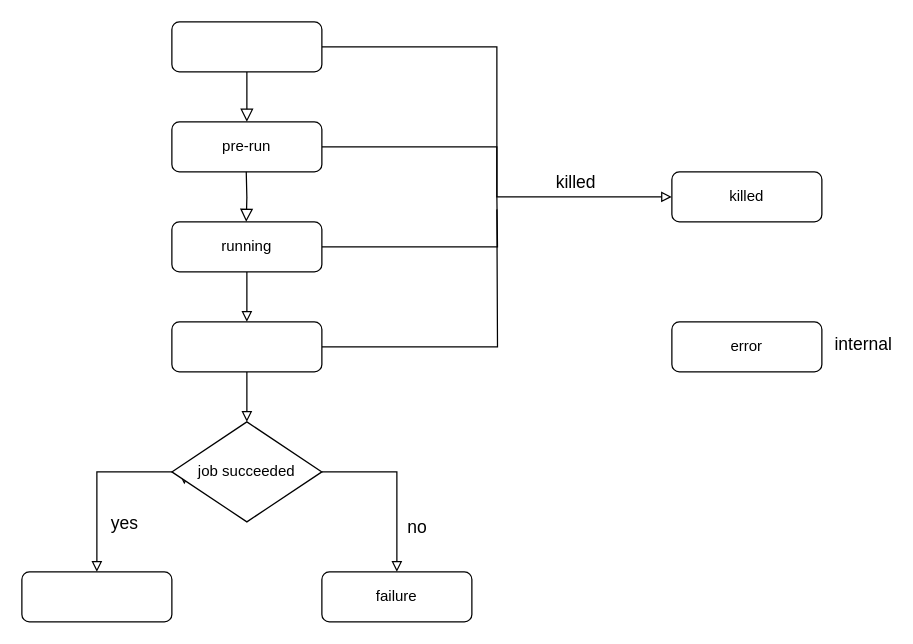
The diagram is 913 pixels wide and 644 high, and some of its shapes have lost their labels. The shapes that lost their labels are listed below. From the top down, each one's centre as x and y in pixels, then its label:
the point at 246,46: new
the point at 246,346: post-run
the point at 96,596: success
